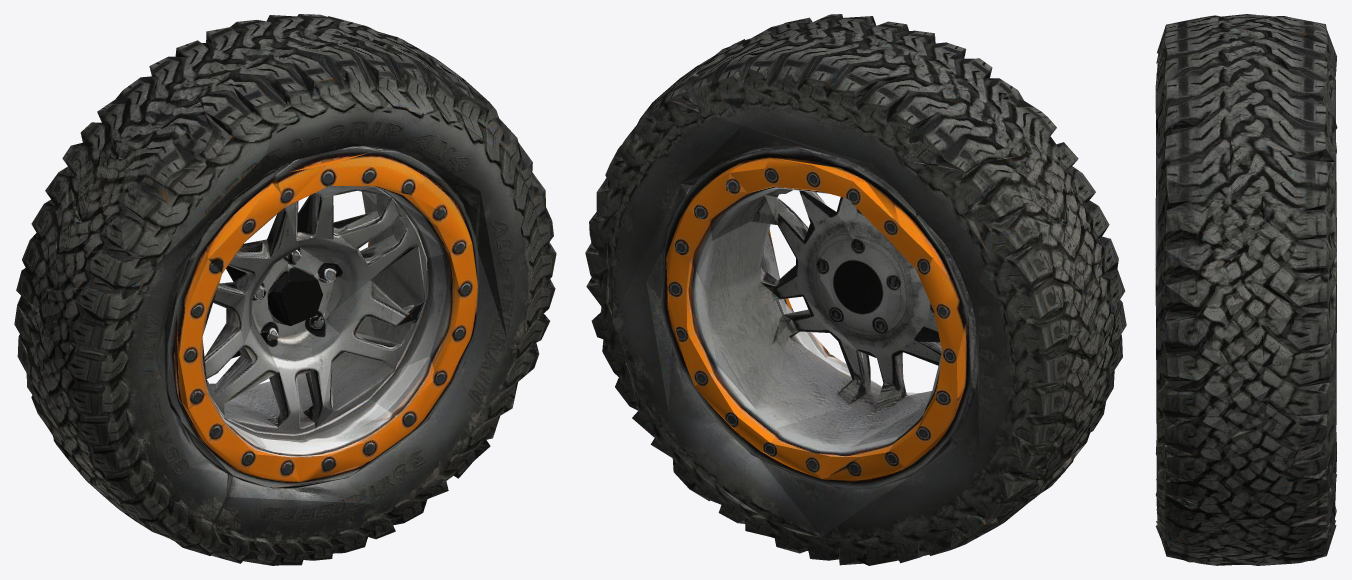
The model's file is rim7.glb.
3 views of the same model, side by side, from view 1: azimuth 30°, elevation 25°; view 2: azimuth 150°, elevation 25°; view 3: azimuth 270°, elevation 25° (orthographic).
Bounding box in the file's own units: 1.89 × 1.89 × 0.6223.
1 material, 1 textured.
